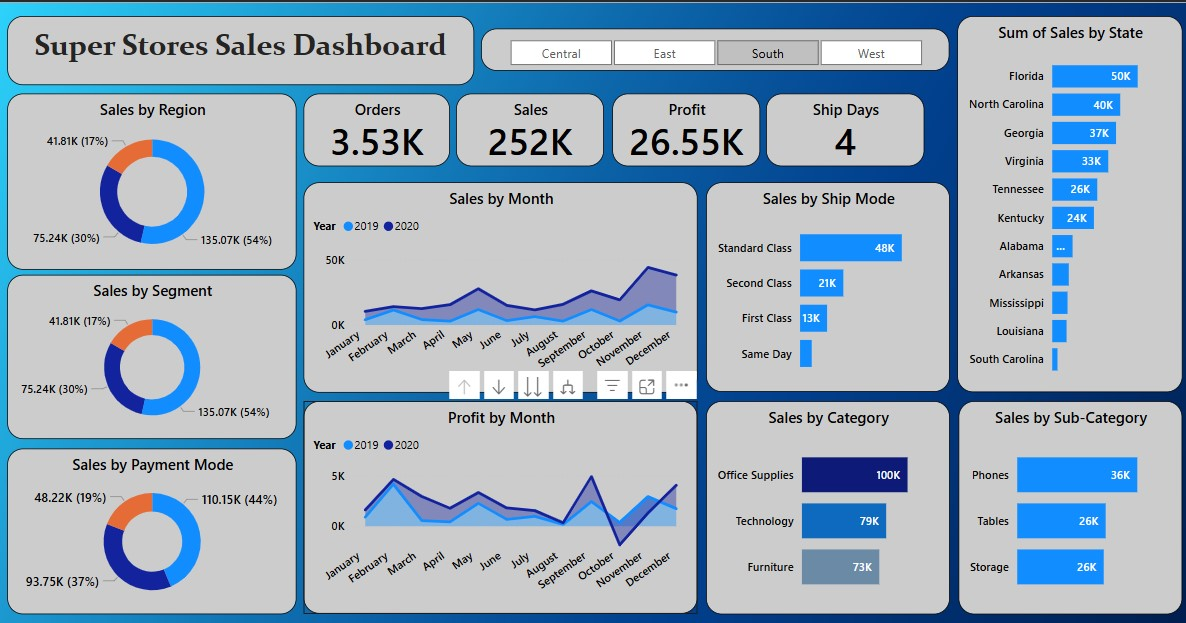

Layout of this report page (visuals, bound fields, positions):
{"tool":"powerbi","page":{"name":"Page 1","canvas":[1280,720],"ordinal":0},"visuals":[{"type":"clusteredBarChart","title":"Sales by Category","fields":{"Category":["SuperStore_Sales_Dataset.Category"],"Y":["Sum(SuperStore_Sales_Dataset.Sales)"]},"box":[763.9,478.8,262.2,230],"z":0},{"type":"clusteredBarChart","title":"Sales by Sub-Category","fields":{"Category":["SuperStore_Sales_Dataset.Sub-Category"],"Y":["Sum(SuperStore_Sales_Dataset.Sales)"]},"box":[1035.5,478.8,240.7,230],"z":1000},{"type":"clusteredBarChart","title":"Sales by Ship Mode","fields":{"Category":["SuperStore_Sales_Dataset.Ship Mode"],"Y":["Sum(SuperStore_Sales_Dataset.Sales)"]},"box":[763.9,243.4,262.2,225.9],"z":2000},{"type":"stackedAreaChart","title":" Sales by Month","fields":{"Y":["Sum(SuperStore_Sales_Dataset.Sales)"],"Category":["SuperStore_Sales_Dataset.Order Date.Variation.Date Hierarchy.Month","SuperStore_Sales_Dataset.Order Date.Variation.Date Hierarchy.Day"],"Series":["SuperStore_Sales_Dataset.Order Date.Variation.Date Hierarchy.Year"]},"box":[330.7,242.9,424,226.4],"z":3000},{"type":"stackedAreaChart","title":"Profit by Month","fields":{"Y":["Sum(SuperStore_Sales_Dataset.Profit)"],"Category":["SuperStore_Sales_Dataset.Order Date.Variation.Date Hierarchy.Month","SuperStore_Sales_Dataset.Order Date.Variation.Date Hierarchy.Day"],"Series":["SuperStore_Sales_Dataset.Order Date.Variation.Date Hierarchy.Year"]},"box":[330.7,478.9,424,229.2],"z":4000},{"type":"donutChart","title":"Sales by Segment","fields":{"Category":["SuperStore_Sales_Dataset.Segment"],"Y":["Sum(SuperStore_Sales_Dataset.Sales)"]},"box":[12.3,343.1,311.5,177],"z":5000},{"type":"donutChart","title":"Sales by Payment Mode","fields":{"Category":["SuperStore_Sales_Dataset.Payment Mode"],"Y":["Sum(SuperStore_Sales_Dataset.Sales)"]},"box":[12.3,529.7,311.5,178.4],"z":6000},{"type":"slicer","fields":{"Values":["SuperStore_Sales_Dataset.Region"]},"box":[521.8,78,504.3,45.7],"z":7000},{"type":"textbox","box":[12.3,64.5,502.2,74.1],"z":8000},{"type":"card","title":"Ship Days","fields":{"Values":["Avg(SuperStore_Sales_Dataset.AvgDelivery)"]},"box":[828.8,148.2,170.2,78.2],"z":9000},{"type":"card","title":"Orders","fields":{"Values":["Sum(SuperStore_Sales_Dataset.Quantity)"]},"box":[330.7,148.2,157.8,78.2],"z":10000},{"type":"card","title":"Profit","fields":{"Values":["Sum(SuperStore_Sales_Dataset.Profit)"]},"box":[662.8,148.2,159.2,78.2],"z":11000},{"type":"card","title":"Sales","fields":{"Values":["Sum(SuperStore_Sales_Dataset.Sales)"]},"box":[495.4,148.2,159.2,78.2],"z":12000},{"type":"donutChart","title":"Sales by Region","fields":{"Category":["SuperStore_Sales_Dataset.Segment","SuperStore_Sales_Dataset.Region"],"Y":["Sum(SuperStore_Sales_Dataset.Sales)"]},"box":[12.3,148.2,311.5,189.4],"z":13000},{"type":"clusteredBarChart","fields":{"Y":["Sum(SuperStore_Sales_Dataset.Sales)"],"Category":["SuperStore_Sales_Dataset.State"]},"box":[1034.2,64.6,242.1,404.8],"z":14000}]}

Visuals, with their boxes in screenshot pixels (x1, y1, x2, y2):
"Sales by Category" clusteredBarChart: locate(705, 400, 946, 611)
"Sales by Sub-Category" clusteredBarChart: locate(954, 400, 1175, 611)
"Sales by Ship Mode" clusteredBarChart: locate(705, 183, 946, 391)
" Sales by Month" stackedAreaChart: locate(307, 183, 696, 391)
"Profit by Month" stackedAreaChart: locate(307, 400, 696, 610)
"Sales by Segment" donutChart: locate(14, 275, 301, 438)
"Sales by Payment Mode" donutChart: locate(14, 446, 301, 610)
slicer - SuperStore_Sales_Dataset.Region: locate(482, 31, 946, 73)
textbox: locate(14, 19, 476, 87)
"Ship Days" card: locate(764, 96, 921, 168)
"Orders" card: locate(307, 96, 452, 168)
"Profit" card: locate(612, 96, 758, 168)
"Sales" card: locate(458, 96, 604, 168)
"Sales by Region" donutChart: locate(14, 96, 301, 270)
clusteredBarChart - Sum(SuperStore_Sales_Dataset.Sales) x SuperStore_Sales_Dataset.State: locate(953, 19, 1175, 391)
